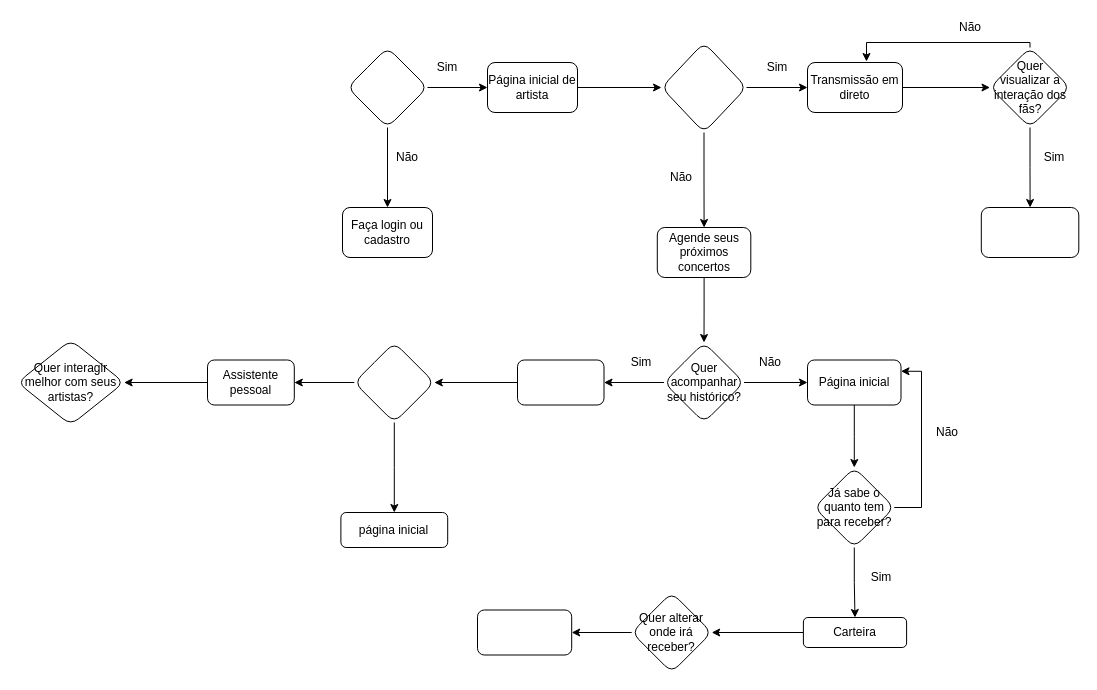
Some shapes in this 1097 by 690 pixel diagram are drawn without their labels. Each missing label, with the centre of its shape:
"Comentários e availiações" goes at [1029,232].
"Configurações" goes at [524,632].
"Está na hora do teu concerto?" goes at [703,87].
"Fez login como artista?" goes at [387,87].
"Histórico de alterações" goes at [560,382].
"Quer aumentar sua popularidade?" goes at [393,382].
